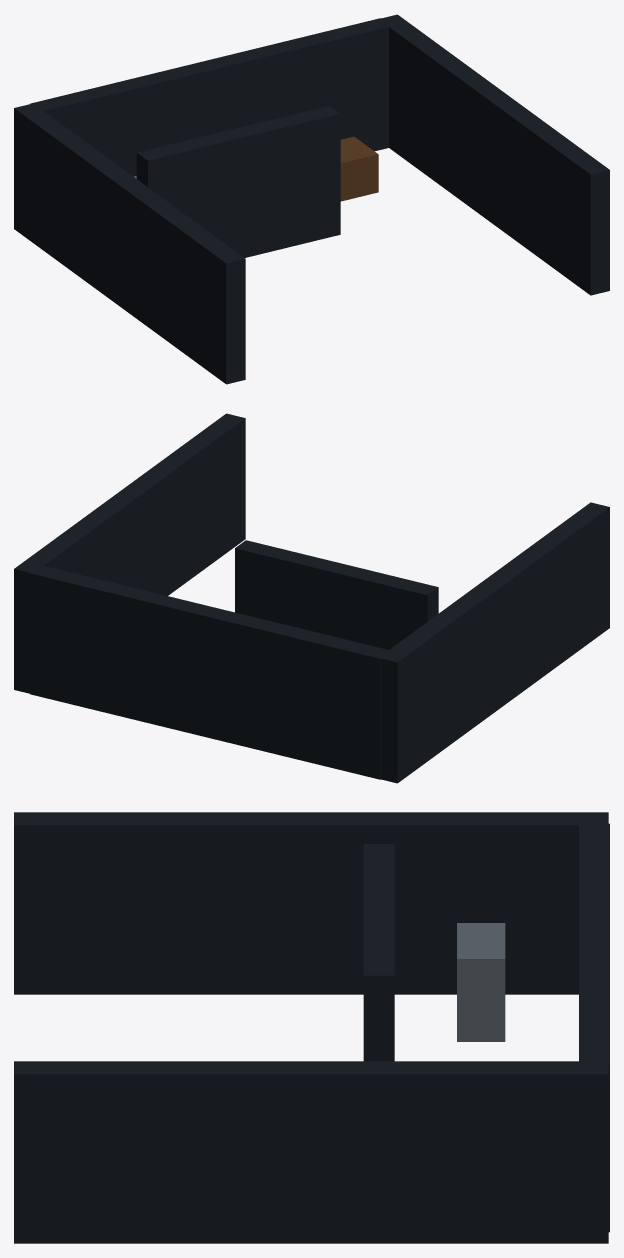
File: module.room_storage_subroom.glb
3 views of the same model, one above another, from view 1: azimuth 30°, elevation 25°; view 2: azimuth 150°, elevation 25°; view 3: azimuth 270°, elevation 25° (orthographic). The views are drawn at different scales.
Parts seen in each view (by area): view 1: outer_left, outer_right, storage_back, storage_partition, pallet_cover; view 2: storage_back, outer_left, outer_right, storage_partition; view 3: outer_right, outer_left, storage_back, storage_partition, locker_cover.
Part boxes in pixels (left/top/right/bottom): outer_left: left=14, top=103, right=245, bottom=384; outer_right: left=378, top=14, right=609, bottom=295; storage_back: left=30, top=18, right=390, bottom=176; storage_partition: left=136, top=105, right=340, bottom=257; pallet_cover: left=340, top=136, right=378, bottom=201; storage_back: left=30, top=566, right=390, bottom=779; outer_left: left=378, top=502, right=609, bottom=783; outer_right: left=14, top=413, right=245, bottom=693; storage_partition: left=235, top=540, right=438, bottom=649; outer_right: left=14, top=1061, right=608, bottom=1243; outer_left: left=14, top=812, right=608, bottom=994; storage_back: left=579, top=823, right=609, bottom=1232; storage_partition: left=363, top=844, right=394, bottom=1061; locker_cover: left=457, top=923, right=505, bottom=1041.
Bounding box in the file's own units: 10.95 × 3.3 × 10.53.
